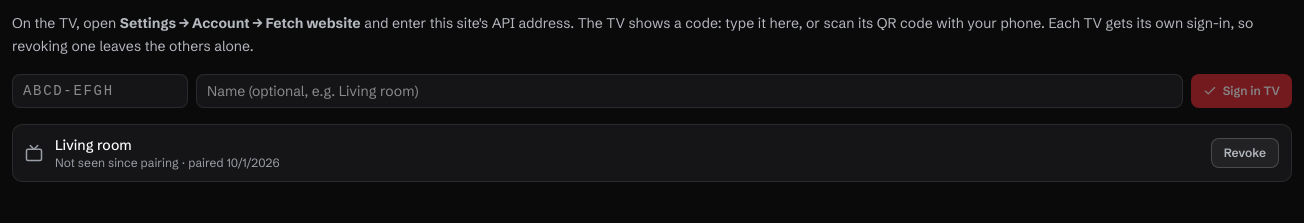
DevicesSettings › says when a code is wrong or expired
This screenshot has width=1304, height=223.
Type "ABCDEFGH" into the field named "Code shown on the TV".
click(100, 90); type("ABCDEFGH")  # box [12, 74, 188, 108]
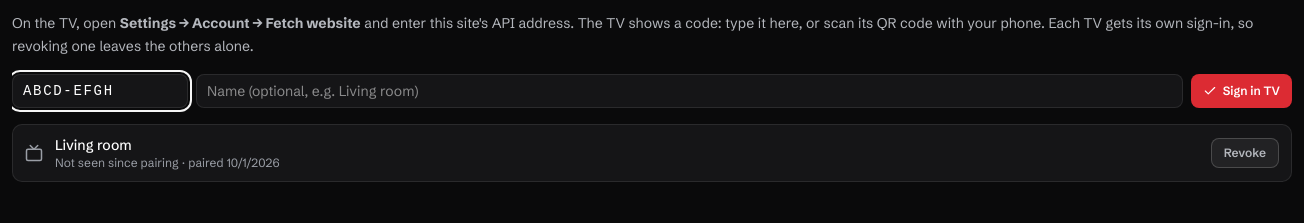
Click the button "Sign in TV".
click(1241, 90)  # box [1191, 74, 1292, 108]
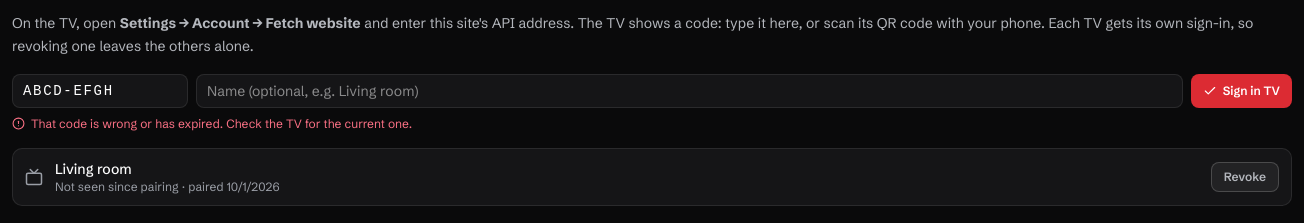
Now the text "That code is wrong or has expired. Check the TV for the current one." is shown, box [12, 116, 412, 130]
